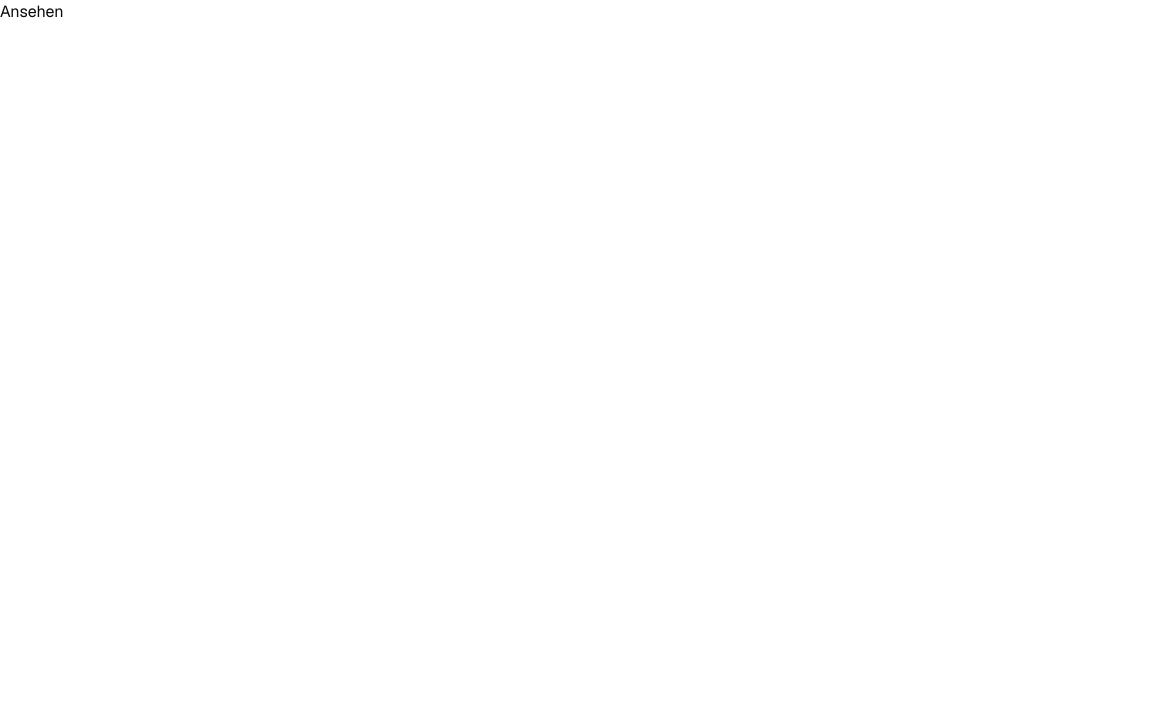
Test case: ReservierungUebersichtDialog › zeigt Kunde mit Adresse, Stand, Versand und Status
The width and height of the screenshot is (1152, 720).
Click the button "Ansehen": (32, 12) [0,0,64,24]
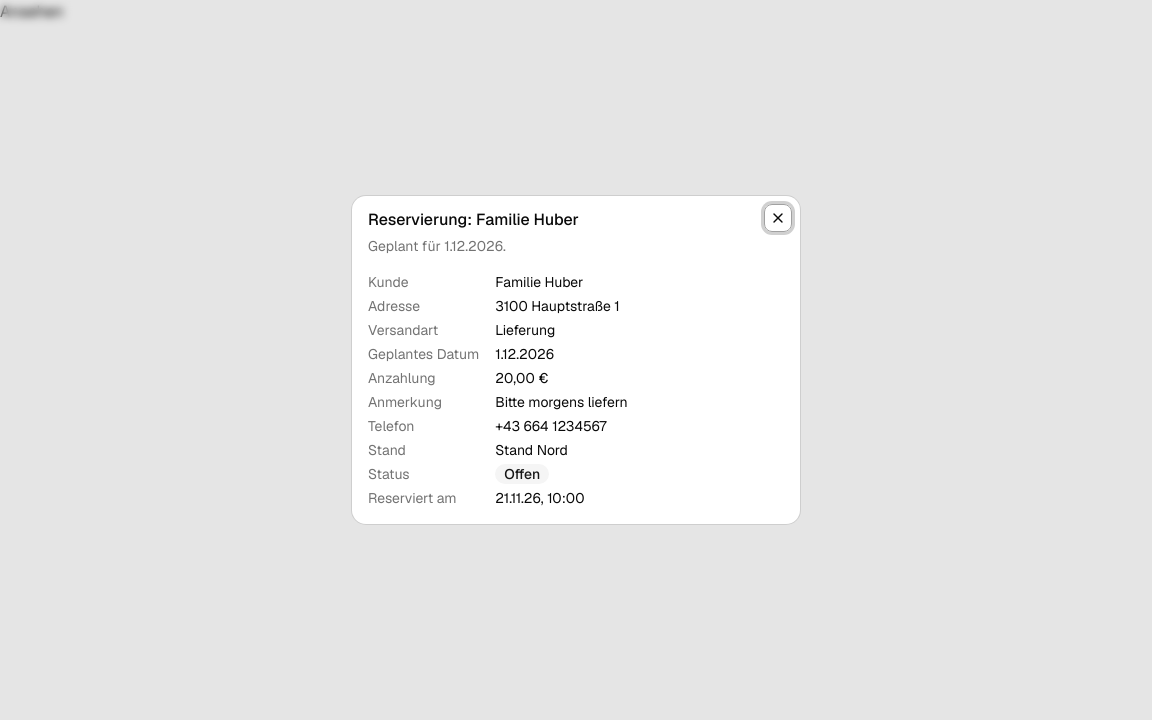
Now the heading "Reservierung: Familie Huber" is shown, box [368,209,579,230]
Now the text "Familie Huber" is shown, box [495,273,583,291]
Now the text "3100 Hauptstraße 1" is shown, box [495,297,620,315]
